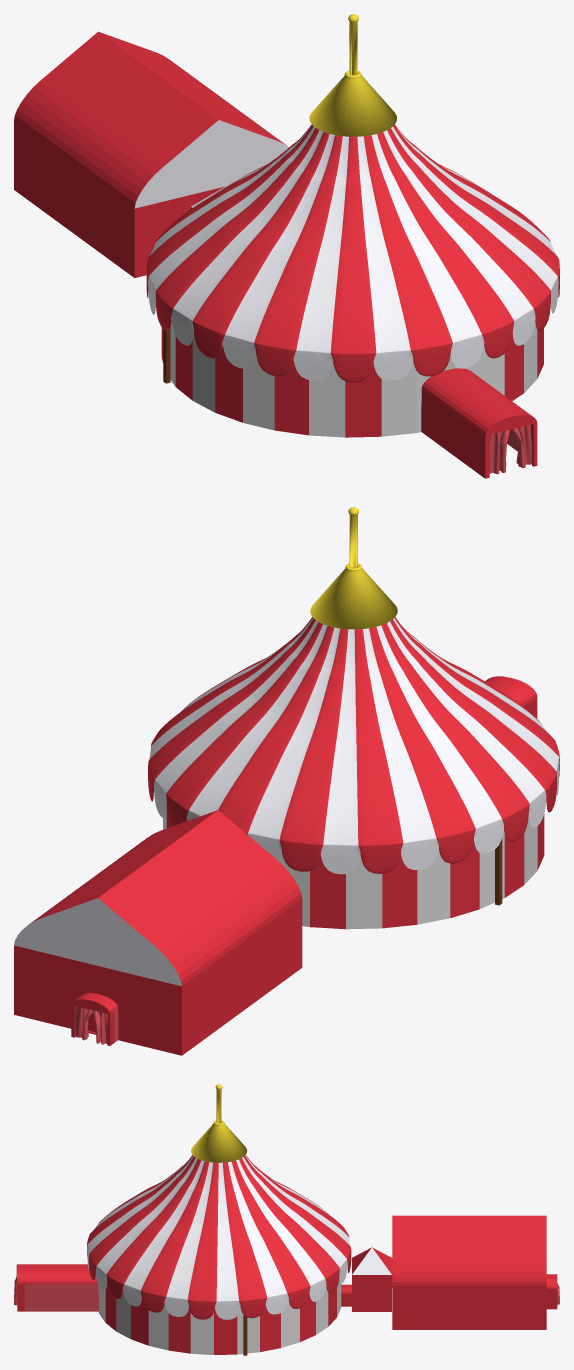
Rendered from BigTop(Ver5.0).fbx.
3 renders of one model, top to bottom at view 1: azimuth 30°, elevation 25°; view 2: azimuth 150°, elevation 25°; view 3: azimuth 270°, elevation 25°, orthographic. The views are drawn at different scales.
Parts seen in each view (by area): view 1: Top, Backrooms, Main Body, Main Hall, Topper, Curtain; view 2: Top, Backrooms, Main Body, Topper, BackroomEntrance, Main Hall, Outer Curtain; view 3: Top, Backrooms, Main Body, Main Hall, Zallway, Topper, BackroomEntrance.
Boxes of the visible parts, x1,y1,x2,y2 form: Top: (146, 124, 559, 382); Backrooms: (14, 31, 289, 277); Main Body: (161, 319, 543, 437); Main Hall: (421, 368, 537, 478); Topper: (309, 14, 396, 136); Curtain: (489, 424, 531, 474); Top: (148, 617, 559, 874); Backrooms: (14, 810, 302, 1055); Main Body: (163, 807, 544, 929); Topper: (310, 507, 397, 629); BackroomEntrance: (71, 993, 118, 1045); Main Hall: (485, 676, 537, 718); Outer Curtain: (75, 1006, 107, 1044); Top: (87, 1155, 351, 1319); Backrooms: (392, 1215, 546, 1329); Main Body: (98, 1278, 341, 1354); Main Hall: (16, 1264, 98, 1311); Zallway: (341, 1247, 392, 1311); Topper: (191, 1084, 247, 1162); BackroomEntrance: (546, 1274, 557, 1309).
Bounding box in the file's own units: 432 × 394 × 891.
